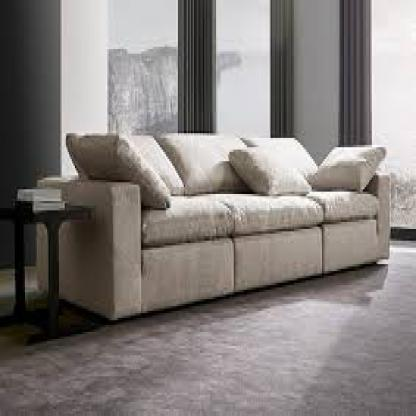sofa: (20, 131, 400, 294)
